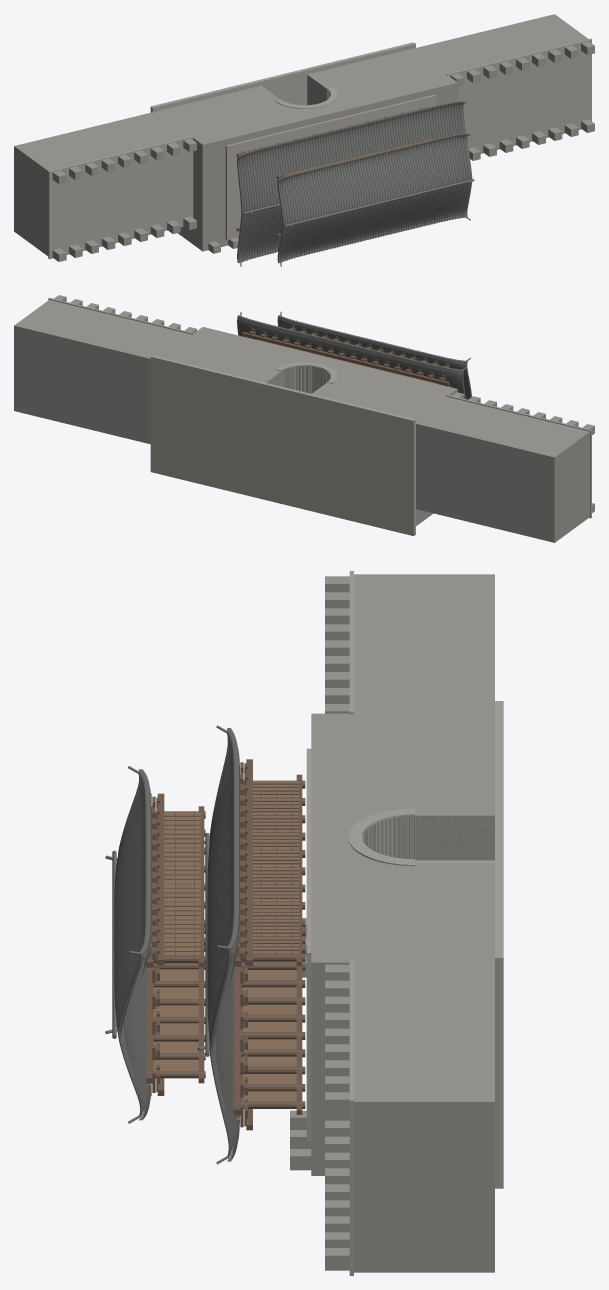
The model's file is SM_Zhengximen_LOD0.glb.
3 views of the same model, one above another, from view 1: azimuth 30°, elevation 25°; view 2: azimuth 150°, elevation 25°; view 3: azimuth 270°, elevation 25° (orthographic). The views are drawn at different scales.
Visible parts, largest first — view 1: GrayBrick, StoneFoundation, ClayRoofTile, DarkTimber; view 2: GrayBrick, StoneFoundation, ClayRoofTile, DarkTimber, AgedWood; view 3: GrayBrick, DarkTimber, ClayRoofTile, AgedWood, StoneFoundation.
Part boxes in pixels (<box>): GrayBrick: <box>14,14,594,261</box>; StoneFoundation: <box>48,38,591,259</box>; ClayRoofTile: <box>237,101,474,266</box>; DarkTimber: <box>236,107,438,237</box>; GrayBrick: <box>14,295,594,542</box>; StoneFoundation: <box>48,297,591,536</box>; ClayRoofTile: <box>237,311,471,399</box>; DarkTimber: <box>242,327,451,387</box>; AgedWood: <box>252,325,449,382</box>; GrayBrick: <box>290,574,494,1272</box>; DarkTimber: <box>146,759,305,1130</box>; ClayRoofTile: <box>105,725,239,1164</box>; AgedWood: <box>148,781,298,1130</box>; StoneFoundation: <box>306,571,503,1275</box>.
Bounding box in the file's own units: 53.2 × 10.8 × 16.9.
